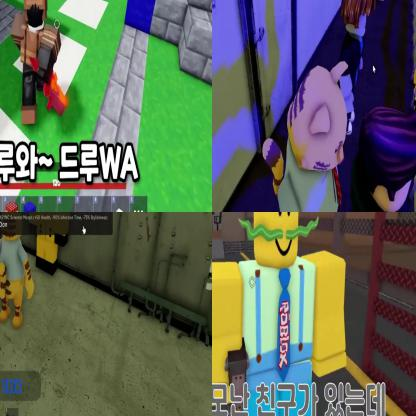Roblox-Avatar: (213, 213, 350, 416), (263, 61, 350, 212), (342, 99, 416, 212), (11, 1, 69, 126), (342, 1, 378, 137), (1, 213, 36, 331)
